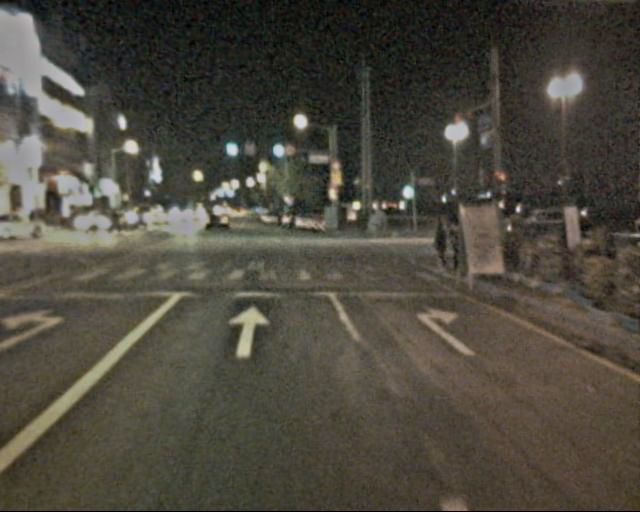person: (428, 210, 453, 273), (446, 214, 466, 279)
